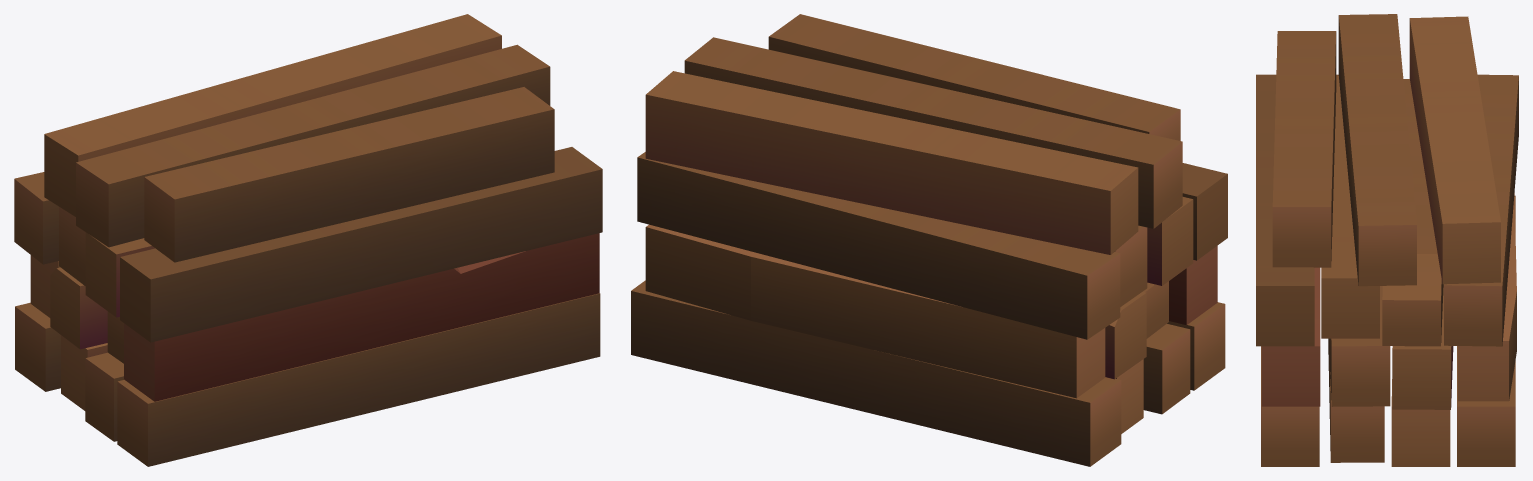
Rendered from Wood_Stack_1B.fbx.
The picture shows the model from 3 angles, left to right: view 1: azimuth 30°, elevation 25°; view 2: azimuth 150°, elevation 25°; view 3: azimuth 270°, elevation 25°; orthographic projection. The views are drawn at different scales.
Visible parts, largest first — view 1: Wood_Stack_1B; view 2: Wood_Stack_1B; view 3: Wood_Stack_1B.
Part boxes in pixels (<box>): Wood_Stack_1B: <box>14,14,602,466</box>; Wood_Stack_1B: <box>631,14,1227,466</box>; Wood_Stack_1B: <box>1256,14,1518,466</box>.
Bounding box in the file's own units: 191 × 100 × 98.66.
